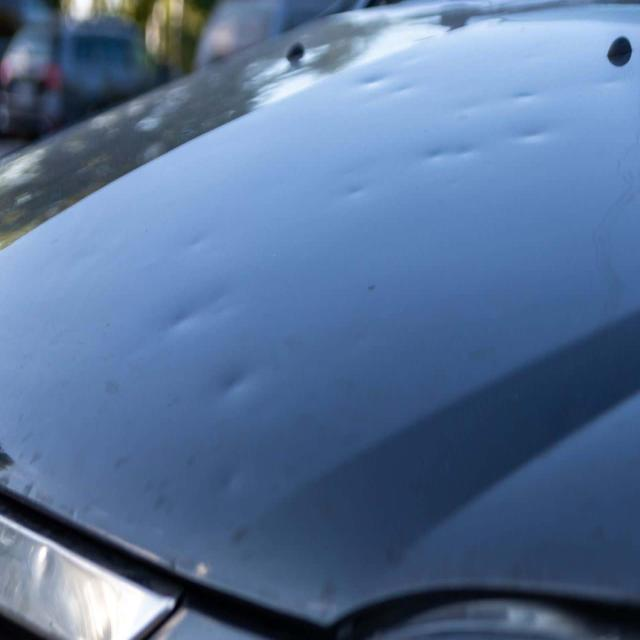dent: (422, 135, 482, 167), (218, 363, 250, 400), (167, 301, 199, 338), (513, 120, 555, 145), (342, 175, 369, 200), (360, 70, 391, 90), (186, 229, 208, 253), (512, 86, 538, 102)
